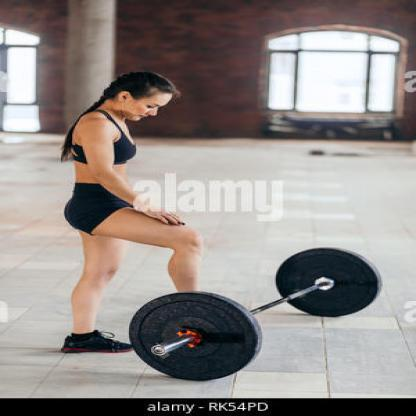barbell: (129, 248, 383, 382)
